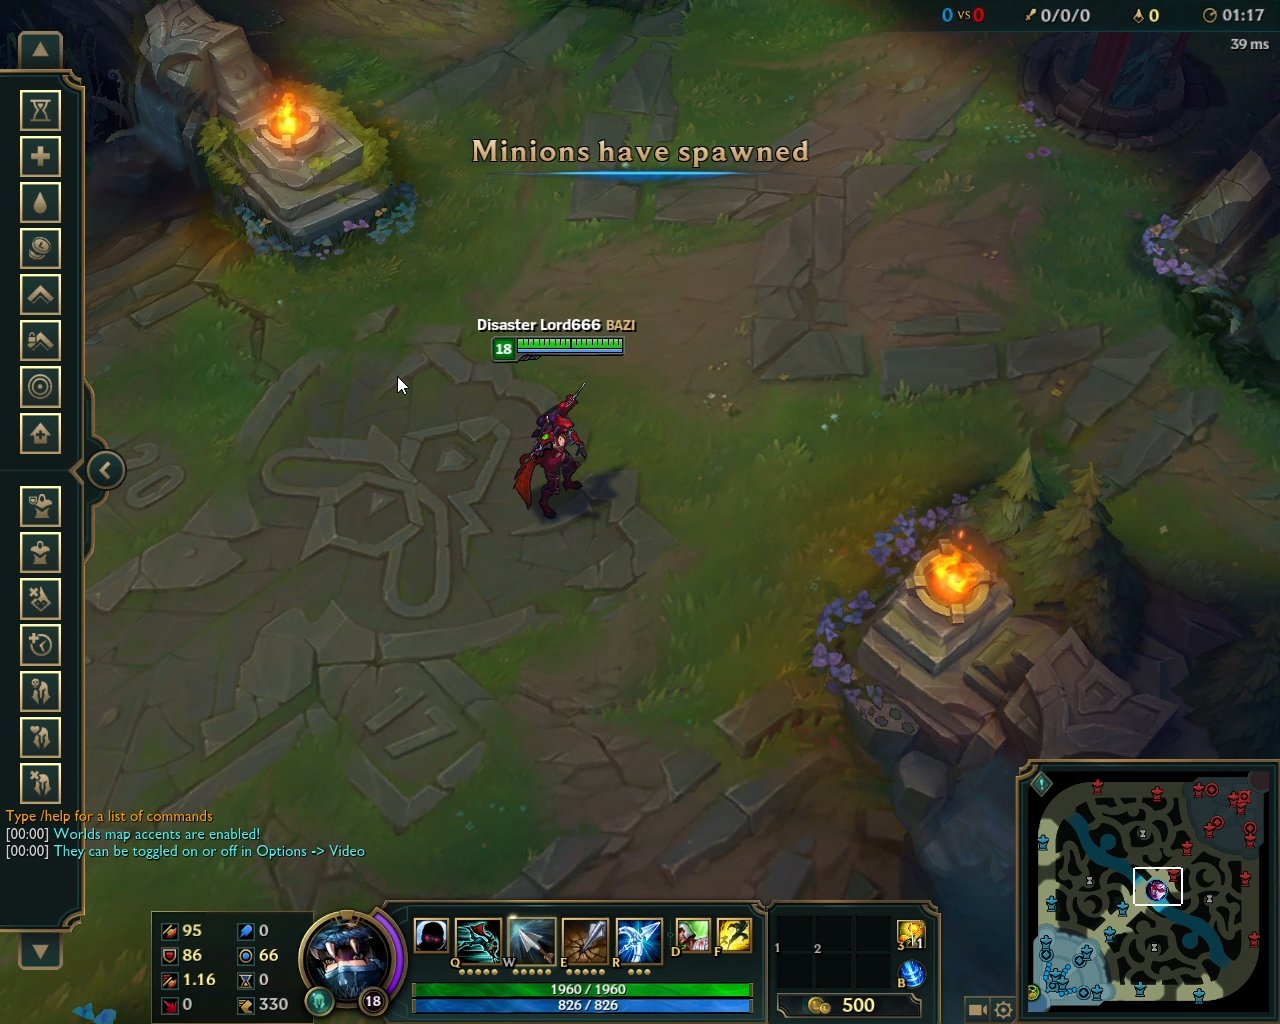Vayne: (514, 378, 599, 521)
